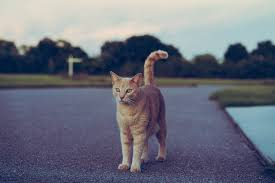cat: (108, 49, 170, 173)
